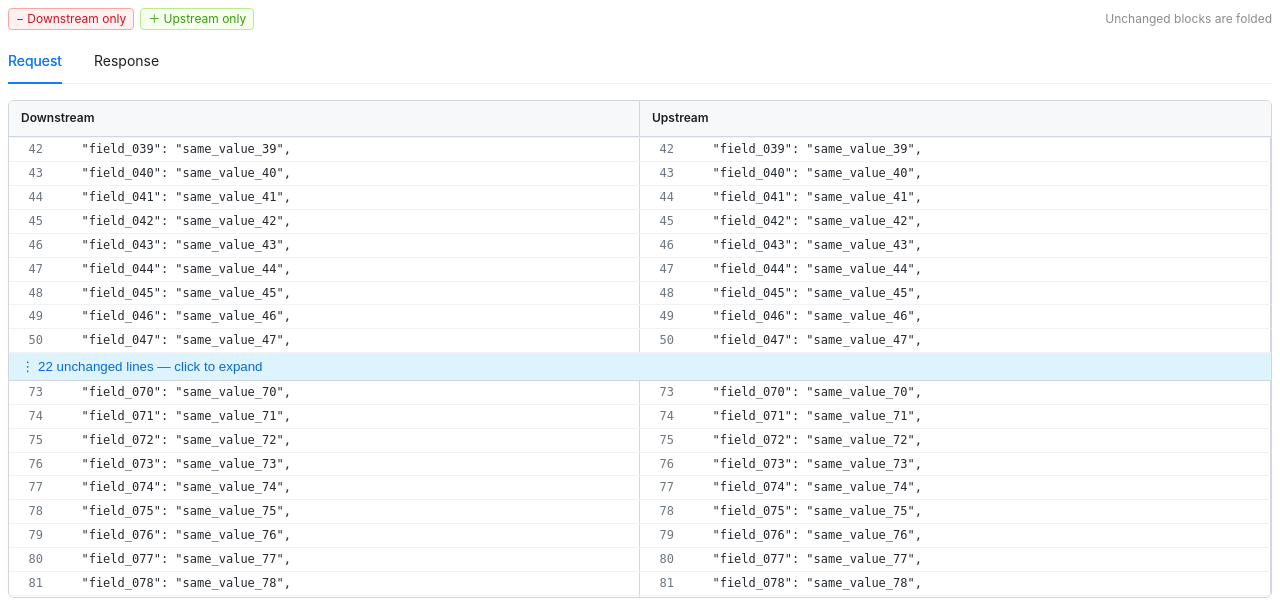
Test case: UpstreamDownstreamDiff › renders request and response diffs with foldable unchanged context
(page scrolled)
Expected: the tab "Request" is shown, [8,50,62,72]
Expected: the text "Downstream" is shown, [9,101,640,136]
What coordinates should you click on to do the following:
click the button "⋮ 22 unchanged lines — click to expand"
I would click on:
 (158, 367)
Its box is [9,353,1271,381].
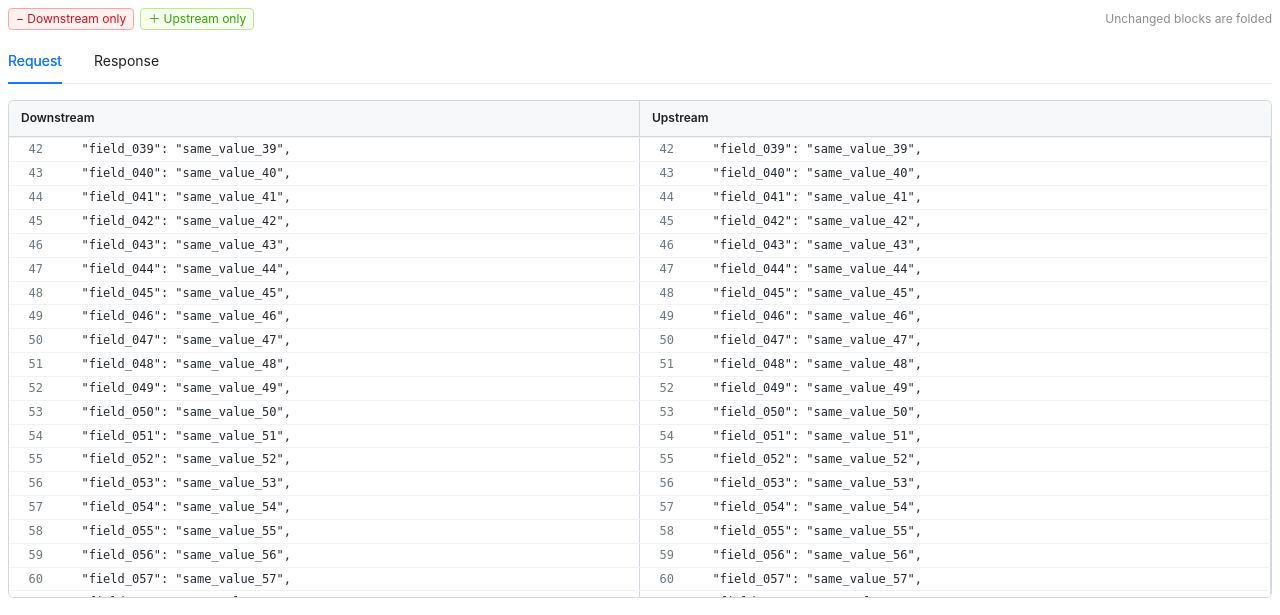
What coordinates should you click on to do the following:
click the tab "Response"
I would click on:
 (127, 61)
Its box is [94,50,159,72].
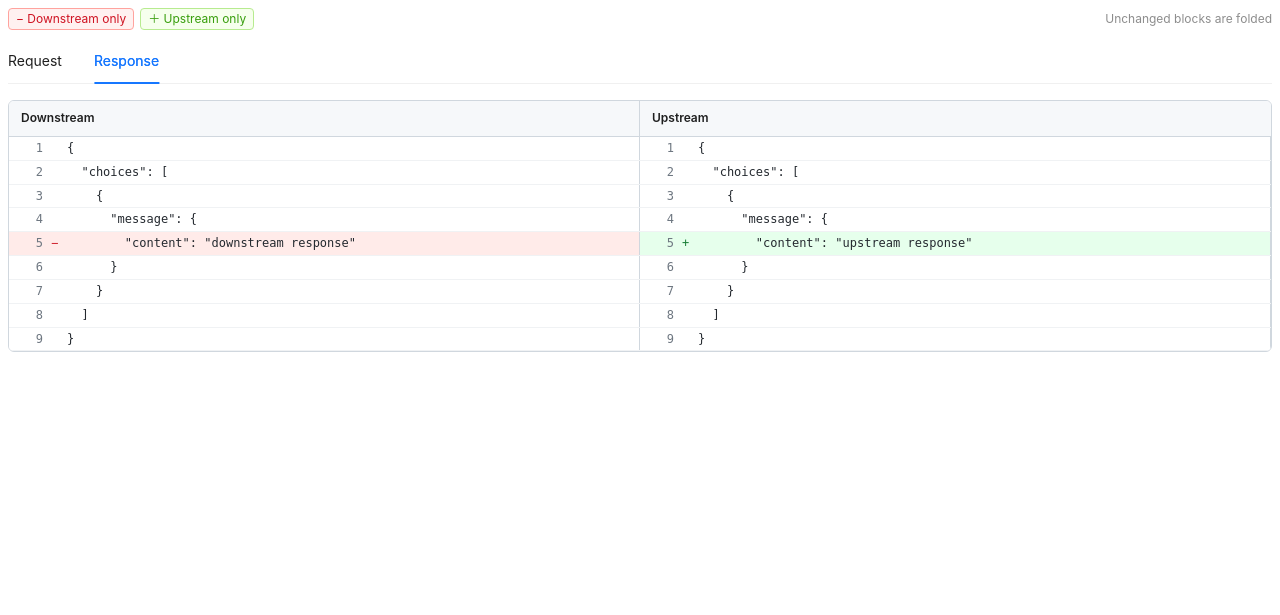
Result: the panel shows "upstream response" at [698,236,972,250]
